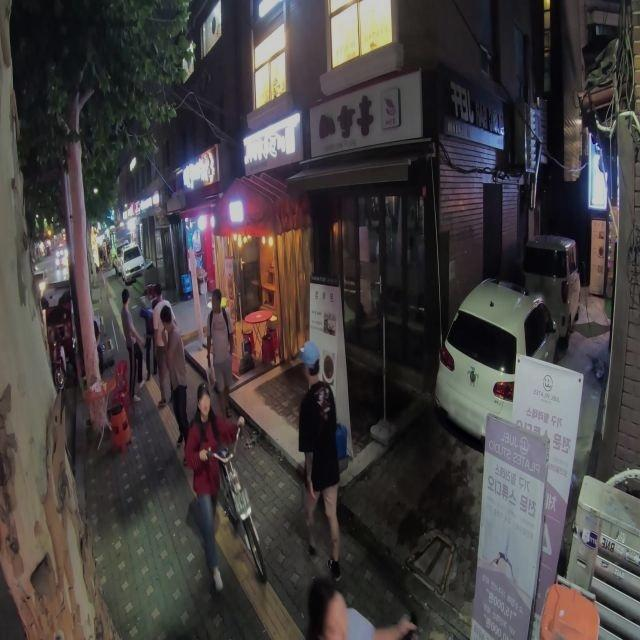non-fight: (182, 378, 259, 590), (297, 345, 350, 582), (159, 303, 197, 445), (206, 288, 236, 419), (141, 291, 160, 380)
